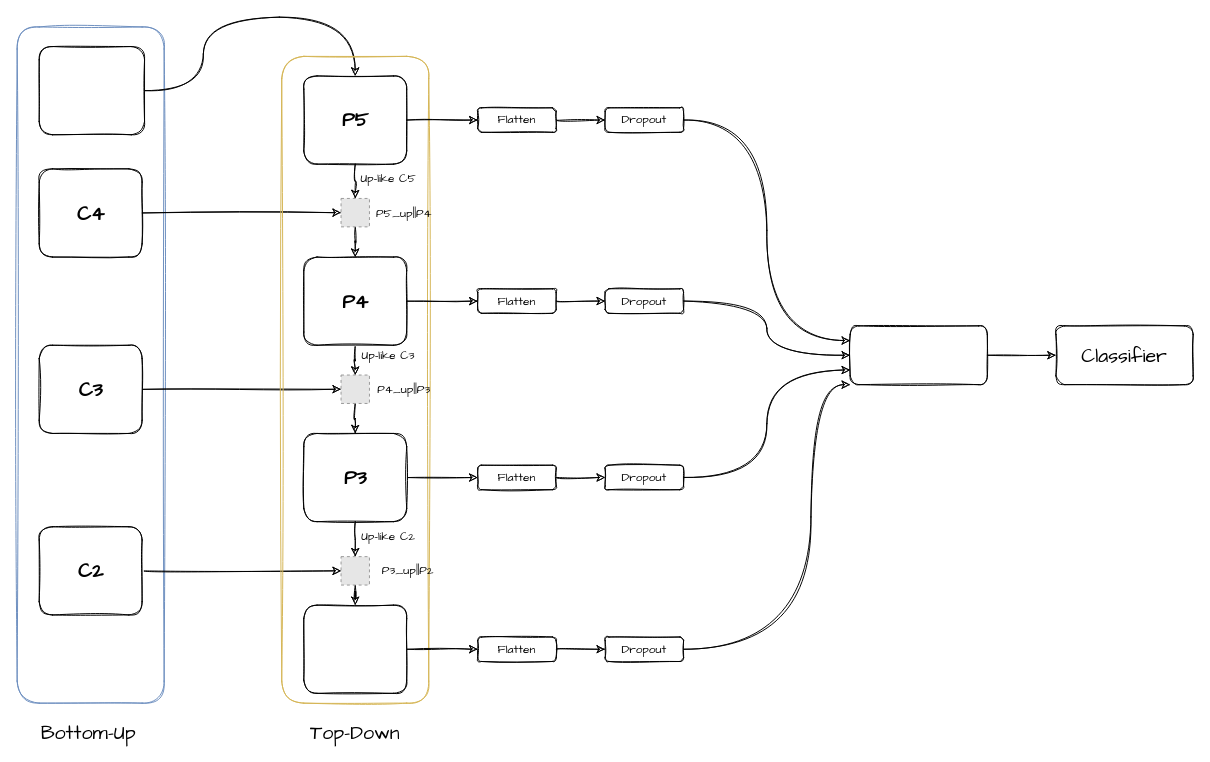
The diagram is 1210 pixels wide and 762 high, and some of its shapes have lost their labels. Grey dashed boxes stand in for pictures. The centre of each missing label's shape, as x and y in pixels:
C5: the point at 91,90
Concatenate: the point at 918,355
P2: the point at 355,648
